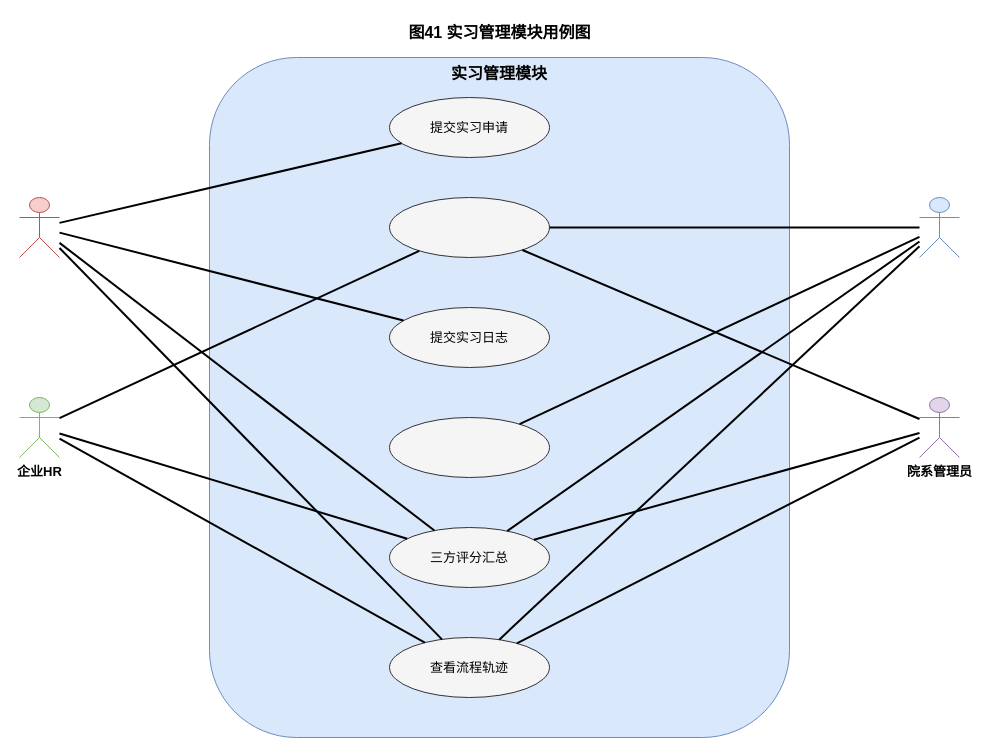
This 989x755 diagram has some shape labels left out. The centre of each missing label's shape, as x and y in pixels:
"学生" belongs at [39,227].
"实习多级审批" belongs at [469,227].
"批阅实习日志" belongs at [469,447].
"辅导员" belongs at [939,227].
